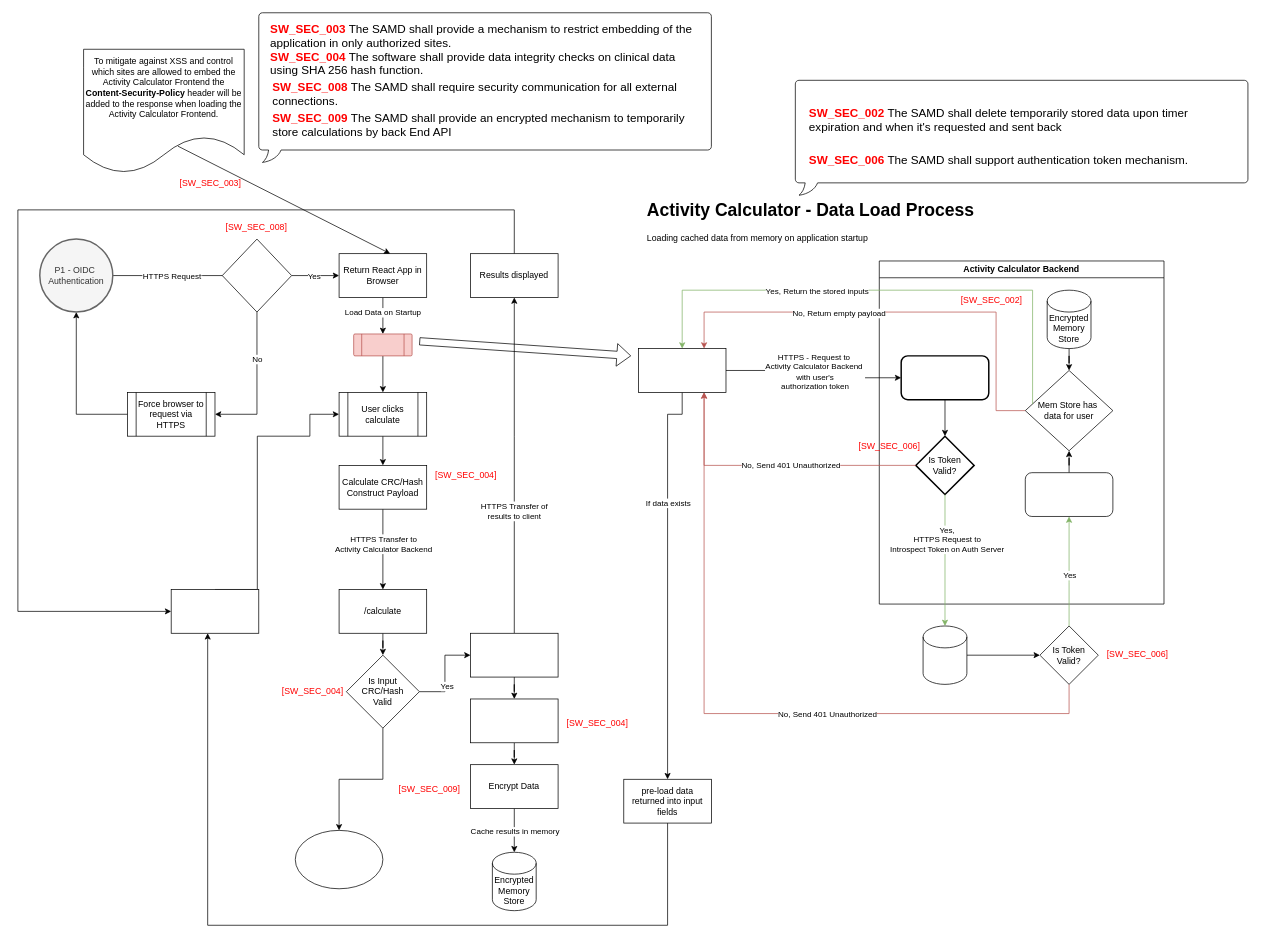
This 1261x944 diagram has some shape labels left out. The shapes that lost their labels are listed below. From the top down, each one's centre as x and y in pixels, then its label:
At point (257, 275): "is HTTPS".
At point (682, 370): "Activity Calculator Frontend (On Load)".
At point (944, 377): "/loadSession".
At point (1069, 494): "Look for data".
At point (214, 611): "User can review and update input values".
At point (514, 655): "Generate Calculation Output".
At point (944, 654): "Auth System".
At point (514, 720): "Calculate CRC/Hash for results".
At point (339, 859): "Return Error".
